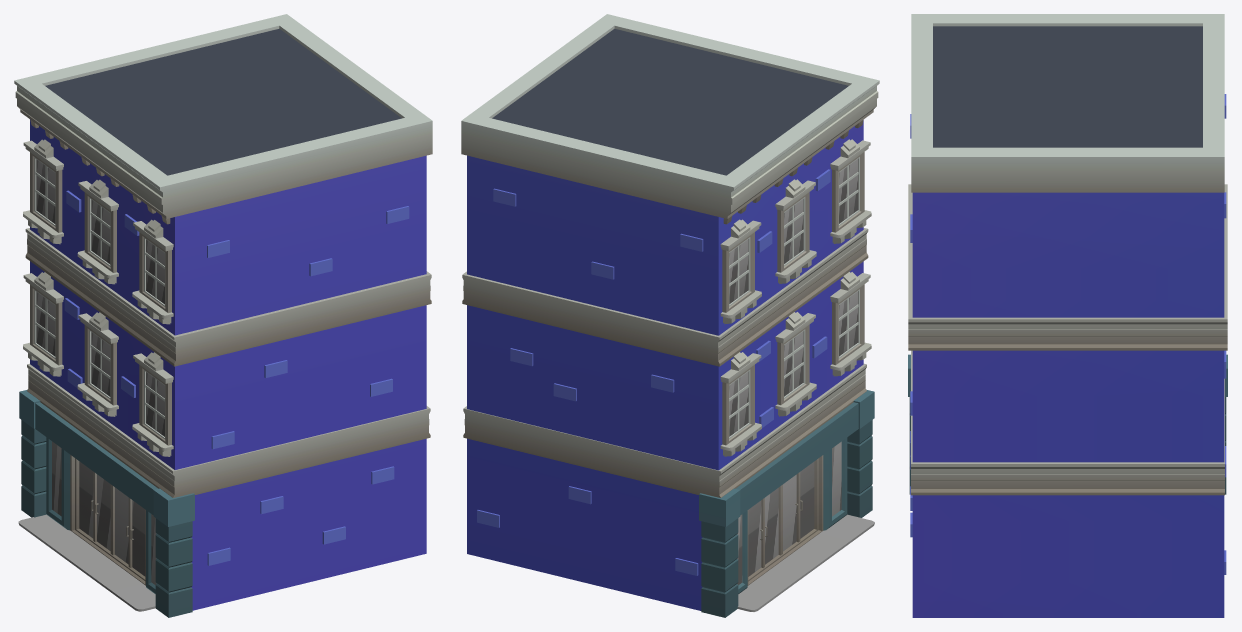
File: Building_21_3_G.fbx
3 views of the same model, side by side, from view 1: azimuth 30°, elevation 25°; view 2: azimuth 150°, elevation 25°; view 3: azimuth 270°, elevation 25° (orthographic). The views are drawn at different scales.
Visible parts, largest first — view 1: Building_21_3_G; view 2: Building_21_3_G; view 3: Building_21_3_G.
Boxes of the visible parts, bbox=[...] form: Building_21_3_G: bbox=[14, 14, 432, 617]; Building_21_3_G: bbox=[461, 14, 879, 617]; Building_21_3_G: bbox=[908, 14, 1227, 617].
Bounding box in the file's own units: 779 × 1141 × 713.
